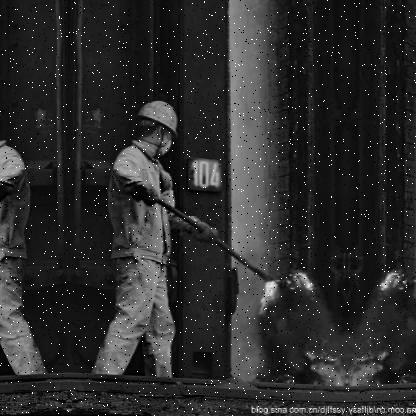Helmet: (126, 97, 180, 160)
